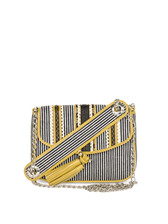bag: (20, 98, 143, 193)
